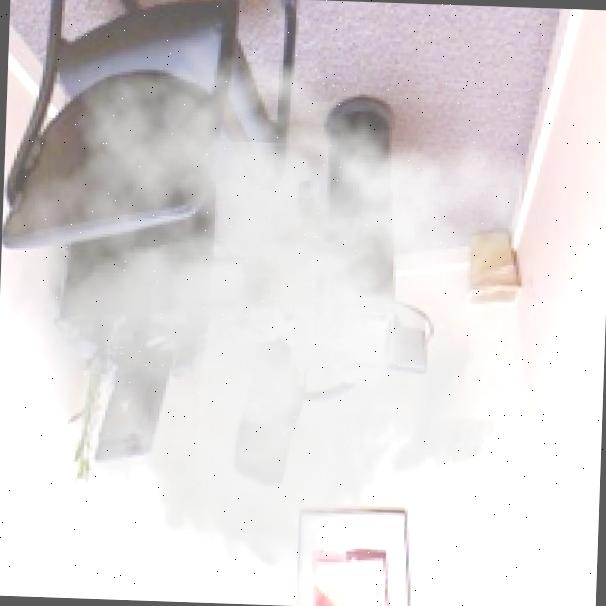smoke: (0, 31, 527, 602)
